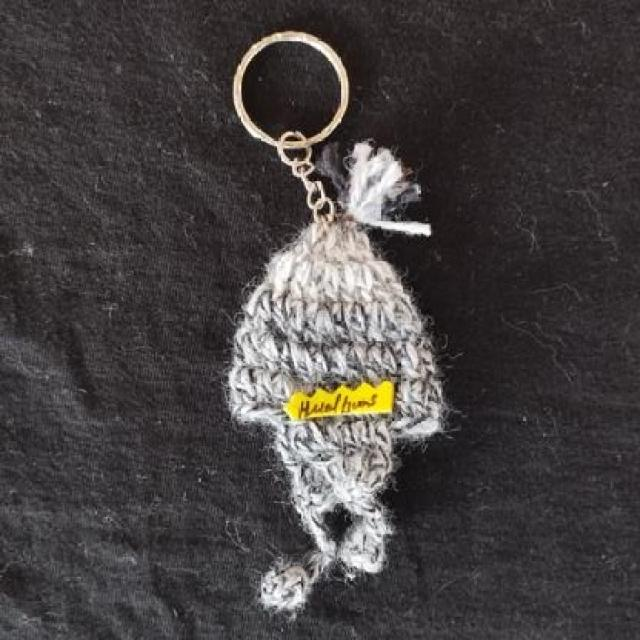Llavero: (223, 138, 451, 617)
